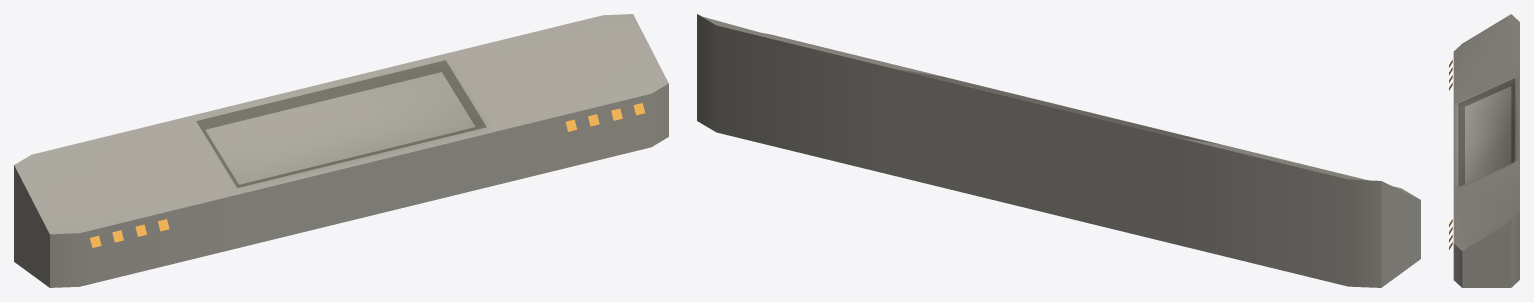
The model's file is Display.FBX.
3 views of the same model, side by side, from view 1: azimuth 30°, elevation 25°; view 2: azimuth 150°, elevation 25°; view 3: azimuth 270°, elevation 25° (orthographic). The views are drawn at different scales.
Visible parts, largest first — view 1: Display; view 2: Display; view 3: Display.
Part boxes in pixels (box(x1,y1,x2,y2)): Display: box(14, 14, 668, 287); Display: box(697, 14, 1420, 287); Display: box(1449, 14, 1519, 287).
Bounding box in the file's own units: 359 × 53.7 × 51.72.
